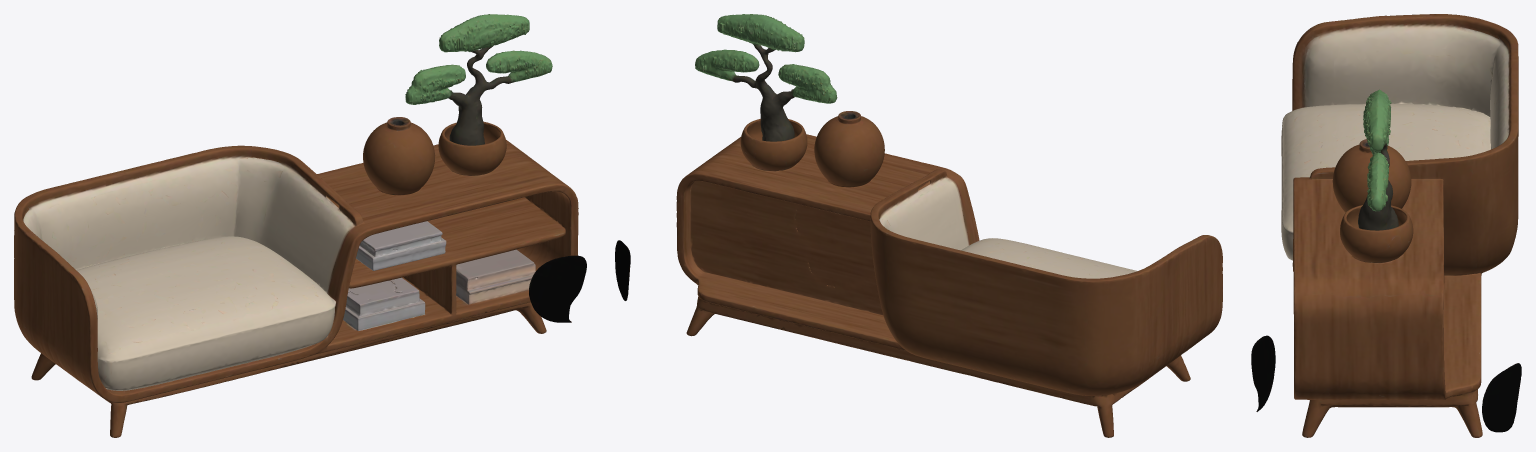
Rendered from tv-cabinet.glb.
3 renders of one model, left to right at view 1: azimuth 30°, elevation 25°; view 2: azimuth 150°, elevation 25°; view 3: azimuth 270°, elevation 25°, orthographic. The views are drawn at different scales.
Visible parts, largest first — view 1: world; view 2: world; view 3: world.
Part boxes in pixels (left/top/right/bottom): world: left=14, top=14, right=586, bottom=437; world: left=615, top=14, right=1222, bottom=437; world: left=1251, top=14, right=1521, bottom=437.
Bounding box in the file's own units: 0.9981 × 0.534 × 0.4055.
1 material, 1 textured.
